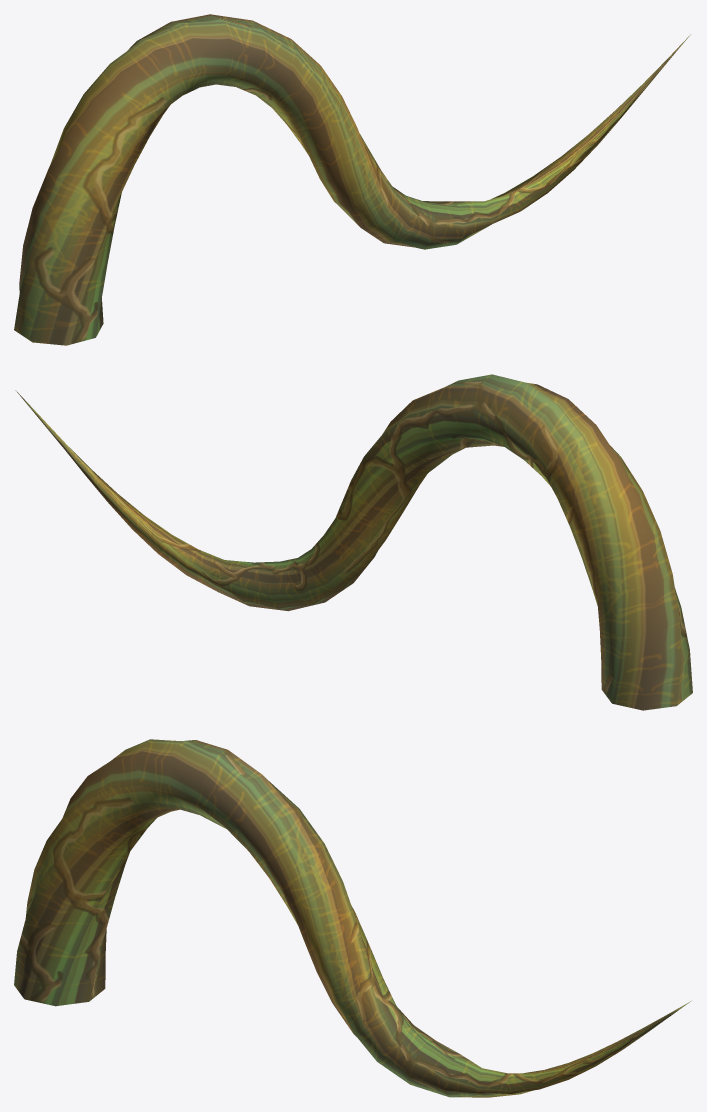
Rendered from vine_01_v03.fbx.
3 renders of one model, top to bottom at view 1: azimuth 30°, elevation 25°; view 2: azimuth 150°, elevation 25°; view 3: azimuth 330°, elevation 25°, orthographic.
Parts seen in each view (by area): view 1: vine_01_v03; view 2: vine_01_v03; view 3: vine_01_v03.
Part boxes in pixels (left/top/right/bottom): vine_01_v03: left=14, top=14, right=690, bottom=345; vine_01_v03: left=15, top=374, right=692, bottom=710; vine_01_v03: left=14, top=739, right=690, bottom=1097.
Bounding box in the file's own units: 234 × 95.08 × 26.7.
